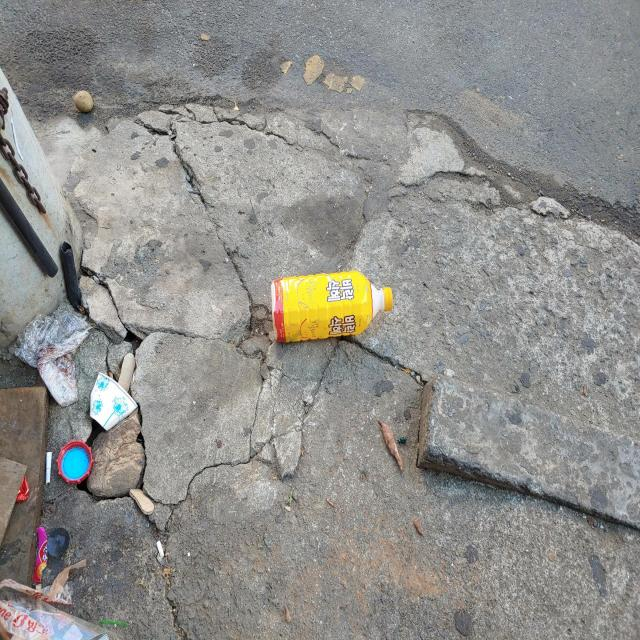plastic: (271, 270, 393, 342)
